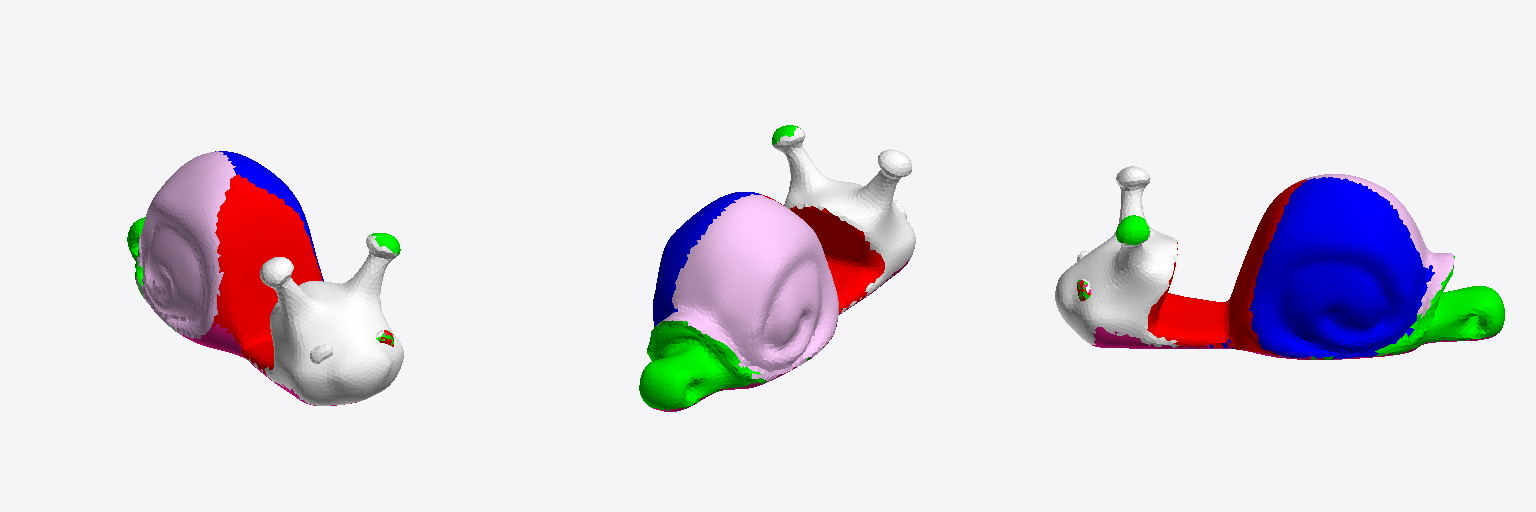
Rendered from model_18313_segmented.obj.
The picture shows the model from 3 angles: view 1: azimuth 30°, elevation 25°; view 2: azimuth 150°, elevation 25°; view 3: azimuth 270°, elevation 25°; orthographic projection.
Bounding box in the file's own units: 19.93 × 21.89 × 57.06.